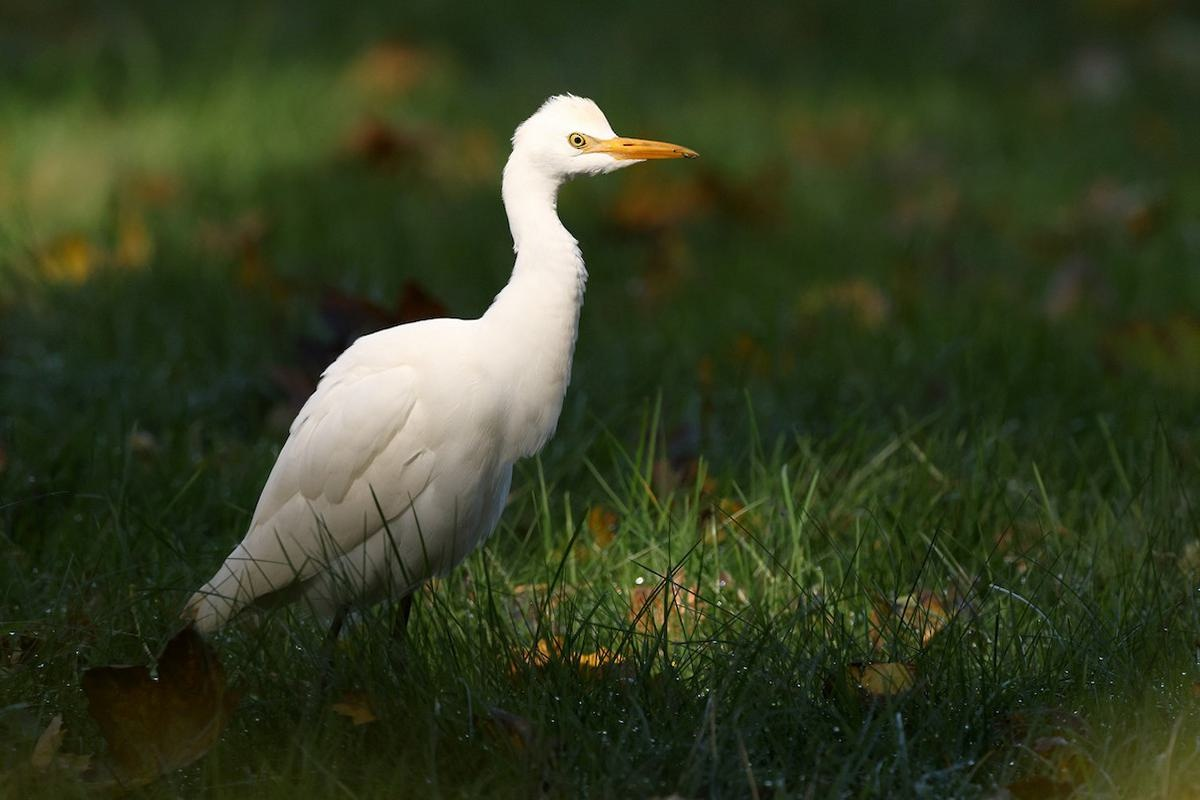egret: (205, 73, 700, 680)
